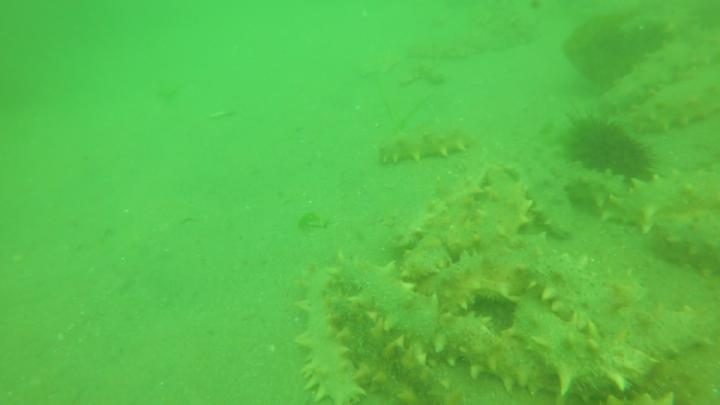echinus: (558, 106, 654, 184)
holothurian: (530, 252, 709, 362), (512, 298, 663, 397), (327, 292, 458, 405), (331, 248, 450, 360), (422, 237, 556, 318), (294, 260, 363, 405), (435, 312, 549, 395), (389, 171, 486, 257), (401, 190, 486, 284), (602, 164, 720, 231), (601, 37, 695, 111), (511, 157, 581, 241), (470, 167, 536, 251), (632, 76, 720, 133), (654, 208, 720, 275), (377, 123, 473, 169), (561, 161, 633, 210)
